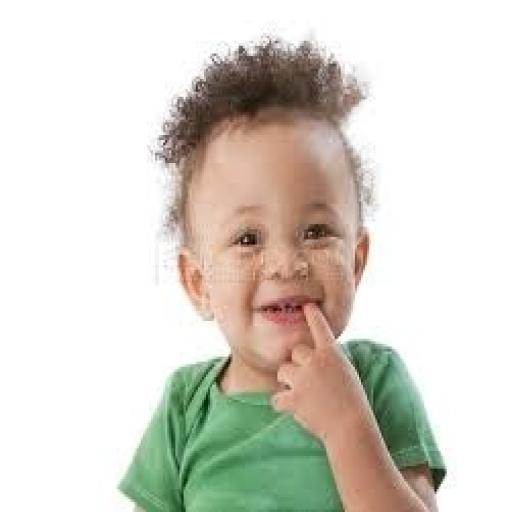laughing: (106, 28, 457, 509)
